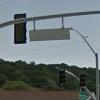Traffic light: (8, 7, 36, 52)
